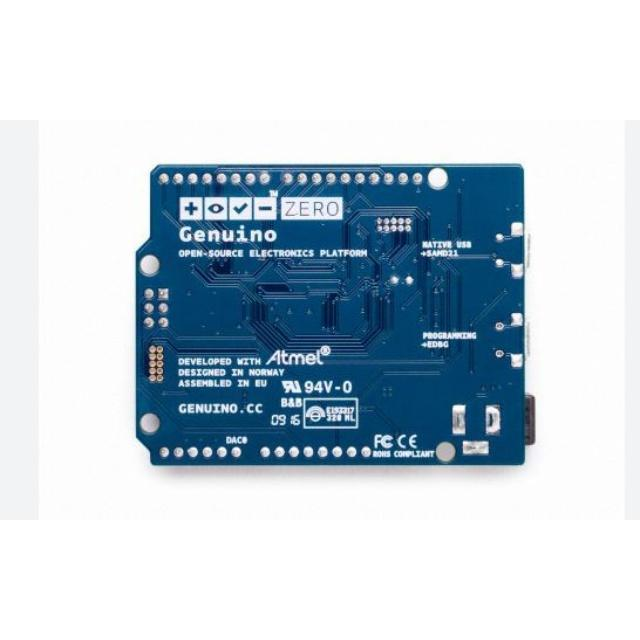Arduino-Zero: (136, 164, 525, 466)
